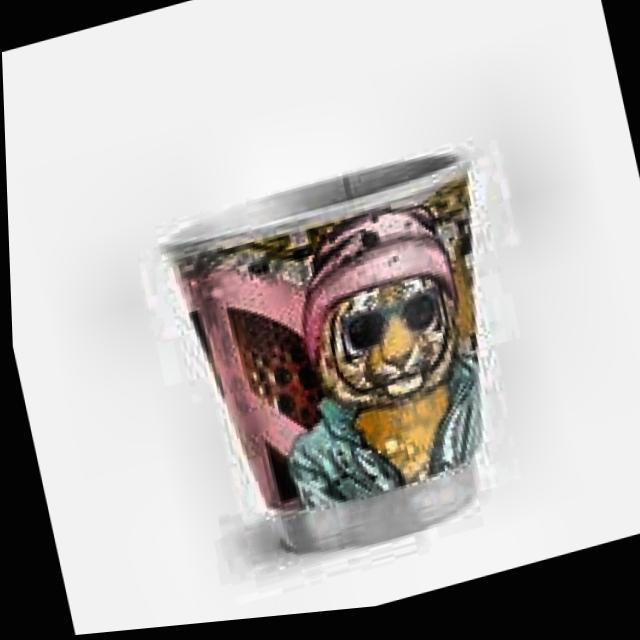Cup: (128, 122, 533, 604)
